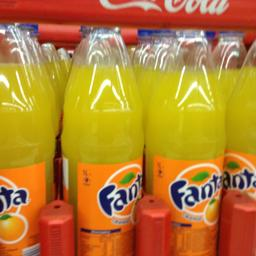soda: (62, 25, 143, 254), (145, 26, 225, 255), (0, 23, 54, 255)
